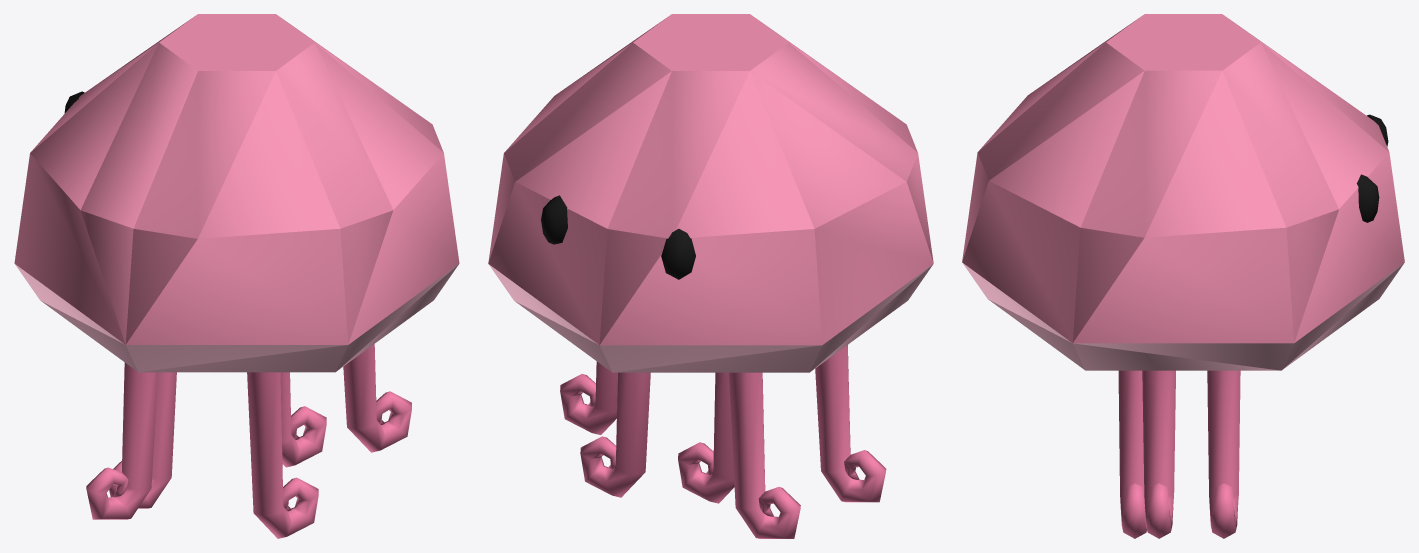
File: jellyfish.glb
The picture shows the model from 3 angles, left to right: view 1: azimuth 30°, elevation 25°; view 2: azimuth 150°, elevation 25°; view 3: azimuth 270°, elevation 25°; orthographic projection.
Visible parts, largest first — view 1: Bell, Tentacles; view 2: Bell, Tentacles, Eyes; view 3: Bell, Tentacles, Eyes.
Boxes of the visible parts, bbox=[...] form: Bell: bbox=[14, 14, 459, 372]; Tentacles: bbox=[86, 344, 411, 538]; Bell: bbox=[488, 14, 933, 372]; Tentacles: bbox=[560, 345, 886, 538]; Eyes: bbox=[541, 195, 695, 279]; Bell: bbox=[962, 14, 1404, 370]; Tentacles: bbox=[1118, 370, 1240, 538]; Eyes: bbox=[1356, 114, 1388, 222].
Size of the model in its own units: 0.55 by 0.7206 by 0.6023.
